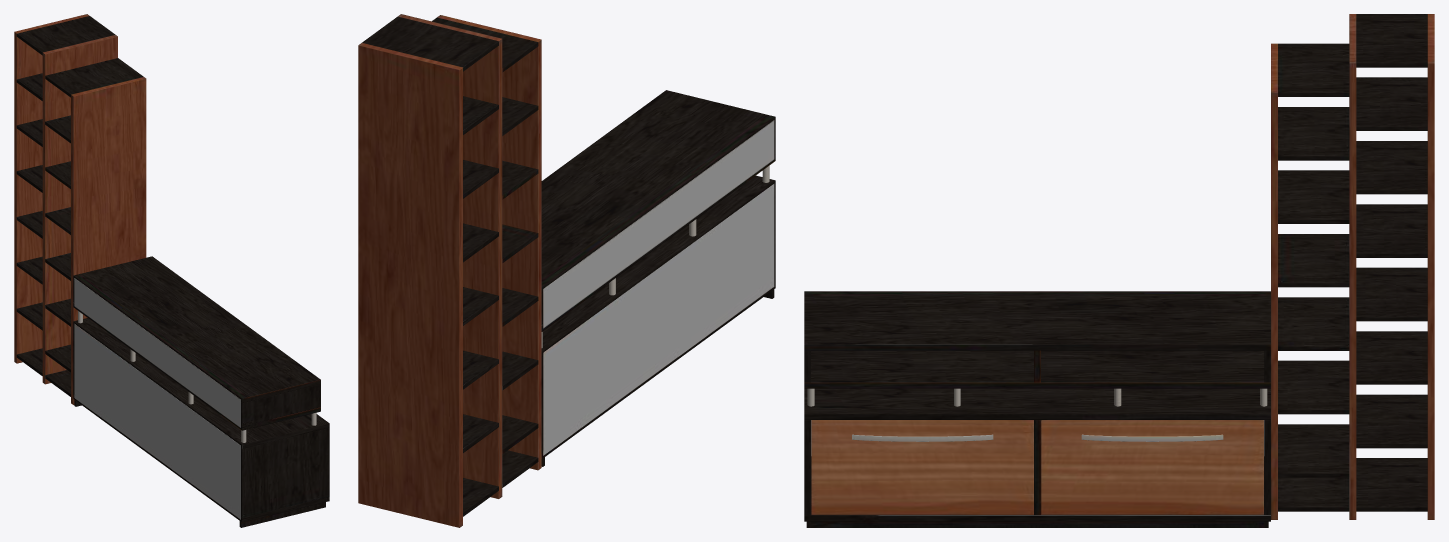
File: closet.fbx
3 renders of one model, left to right at view 1: azimuth 30°, elevation 25°; view 2: azimuth 150°, elevation 25°; view 3: azimuth 270°, elevation 25°, orthographic. The views are drawn at different scales.
Visible parts, largest first — view 1: Cube.005, Cube.003; view 2: Cube.003, Cube.005; view 3: Cube.003, Cube.005, Cube.001, Cube.002.
Boxes of the visible parts, x1,y1,x2,y2 form: Cube.005: (73,256,329,527); Cube.003: (14,14,146,404); Cube.003: (358,14,541,527); Cube.005: (541,90,775,466); Cube.003: (1271,14,1434,519); Cube.005: (804,291,1270,527); Cube.001: (811,420,1033,514); Cube.002: (1041,420,1263,514).
Bounding box in the file's own units: 61.72 × 216 × 270.
